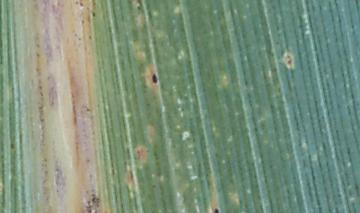tarspot: (150, 72, 158, 84), (286, 57, 293, 65), (78, 1, 85, 8), (91, 11, 97, 18), (213, 207, 220, 213)
